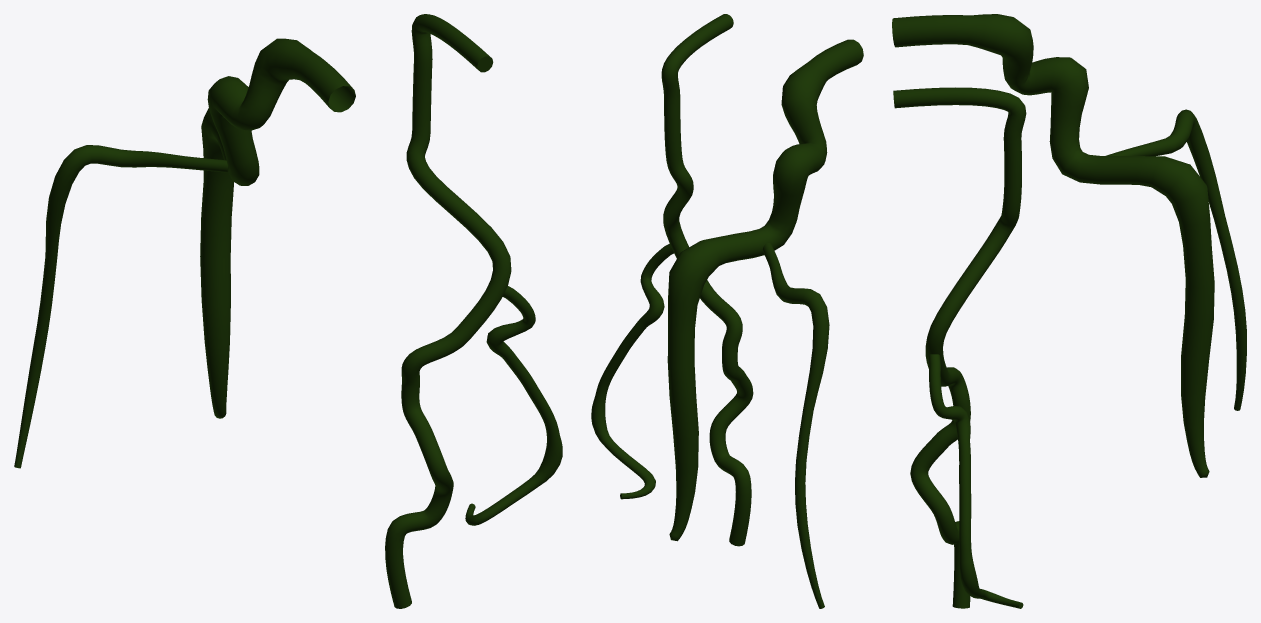
Rendered from Temple_VineClump_Frog.FBX.
The picture shows the model from 3 angles, left to right: view 1: azimuth 30°, elevation 25°; view 2: azimuth 150°, elevation 25°; view 3: azimuth 270°, elevation 25°; orthographic projection. The views are drawn at different scales.
Visible parts, largest first — view 1: DetachedObject019; view 2: DetachedObject019; view 3: DetachedObject019.
Part boxes in pixels (x1,y1,x2,y2): DetachedObject019: [14, 14, 562, 608]; DetachedObject019: [591, 14, 863, 608]; DetachedObject019: [892, 14, 1246, 608].
Bounding box in the file's own units: 7.59 × 10.28 × 6.03.
